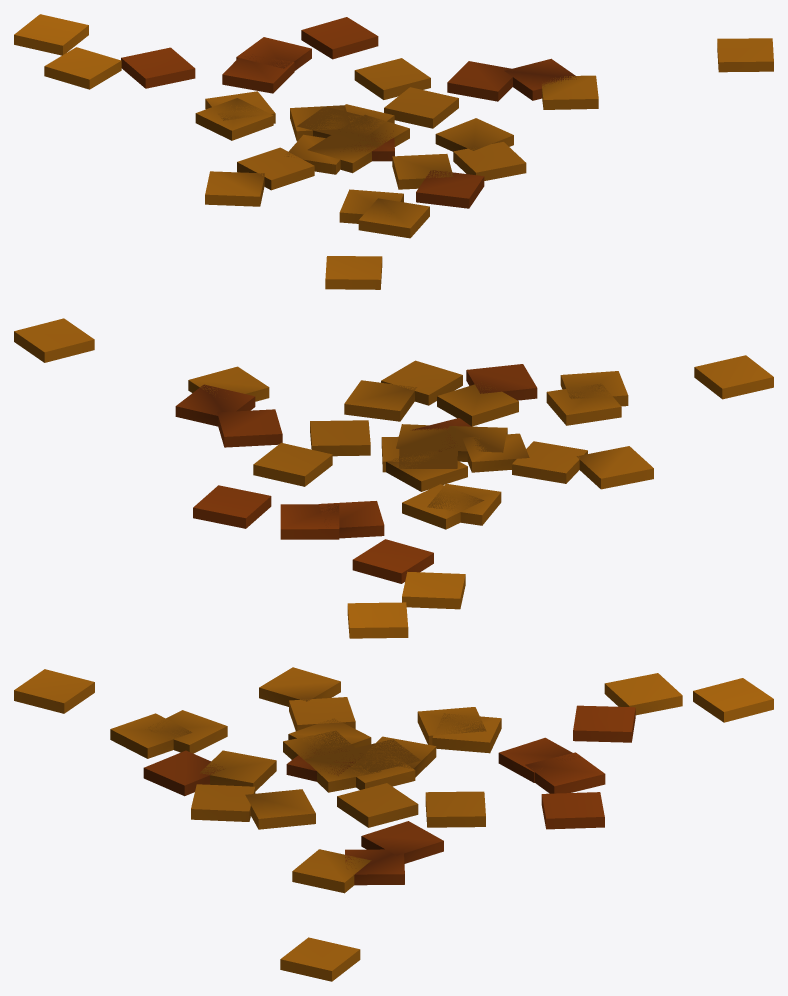
The model's file is fm_grain_lod1.glb.
The picture shows the model from 3 angles, top to bottom: view 1: azimuth 30°, elevation 25°; view 2: azimuth 150°, elevation 25°; view 3: azimuth 270°, elevation 25°; orthographic projection. The views are drawn at different scales.
Parts seen in each view (by area): view 1: fm_grain_lod1; view 2: fm_grain_lod1; view 3: fm_grain_lod1.
Part boxes in pixels (left/top/right/bottom): fm_grain_lod1: left=14, top=14, right=773, bottom=289; fm_grain_lod1: left=14, top=318, right=773, bottom=638; fm_grain_lod1: left=14, top=667, right=773, bottom=981.
Bounding box in the file's own units: 0.4887 × 0.008 × 0.5165.
